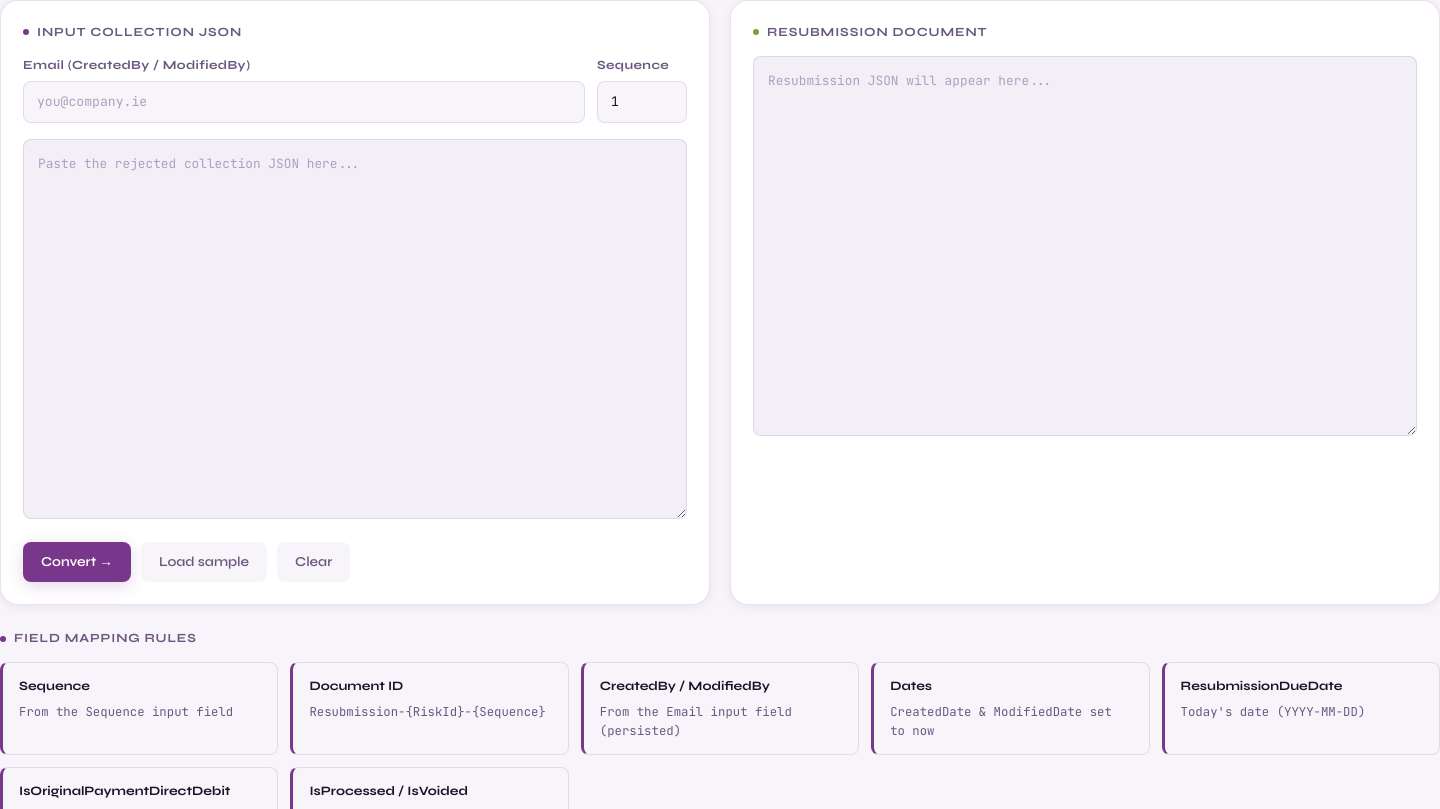
Test: CollectionItem2ResubmissionItem › shows error when JSON input is empty
Click the button "Convert →": [77, 562] box [23,542,131,582]
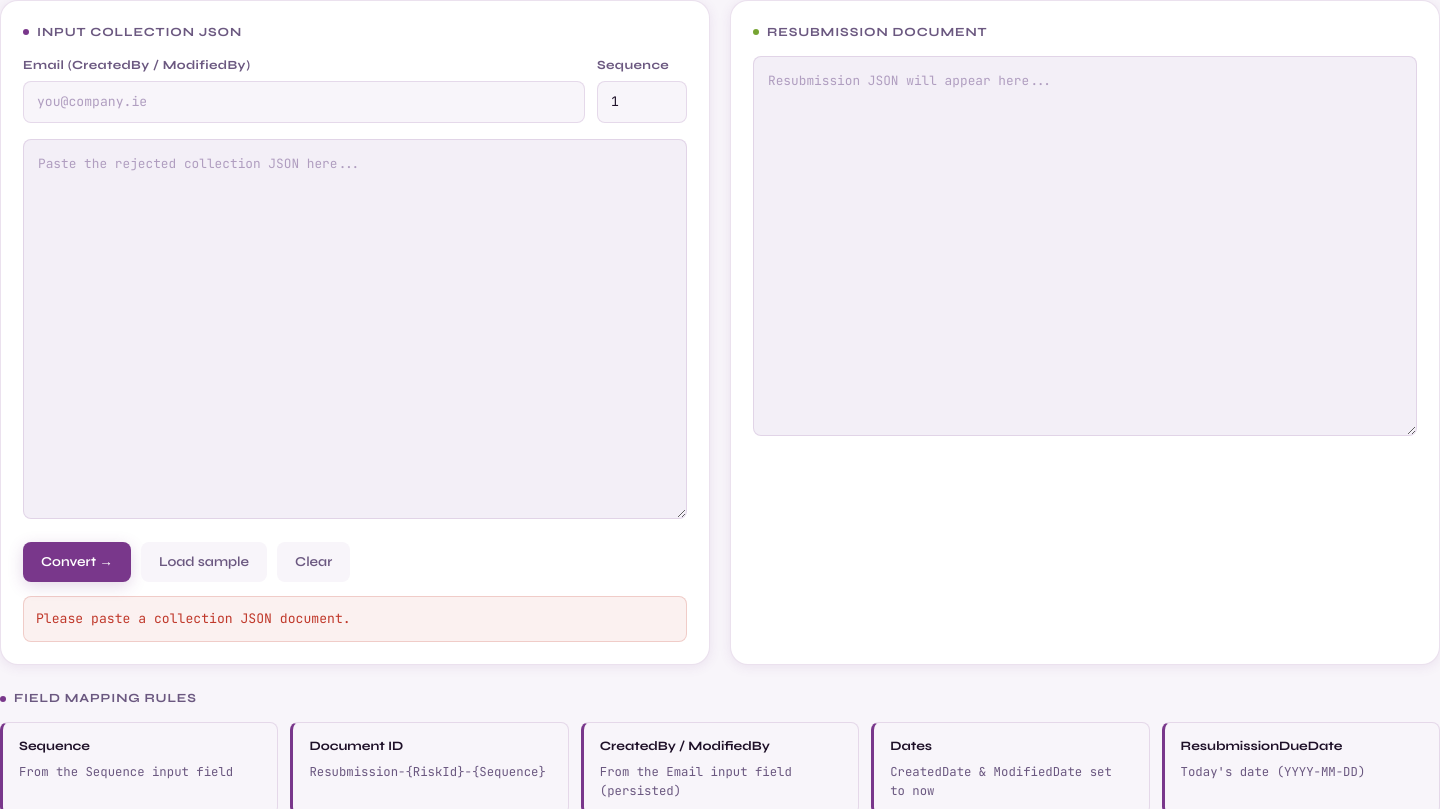
Result: the text "Please paste a collection JSON document." is shown at [23,596,687,642]
